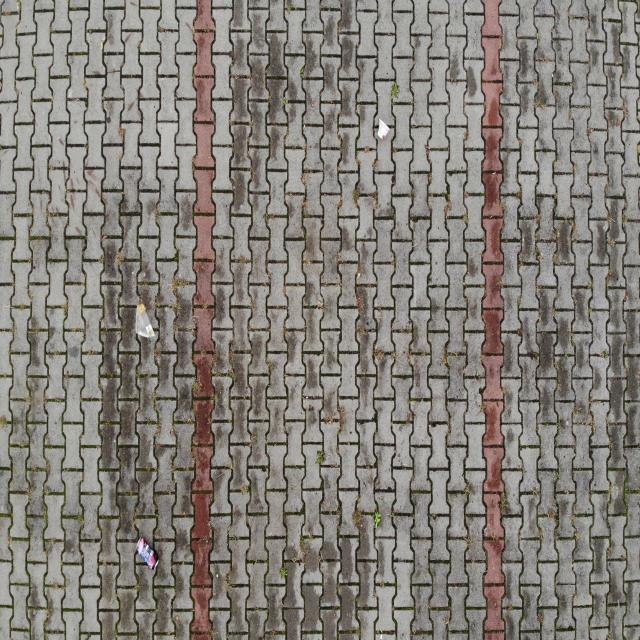rubbish: (136, 536, 160, 570), (135, 303, 155, 338), (377, 119, 390, 143)
